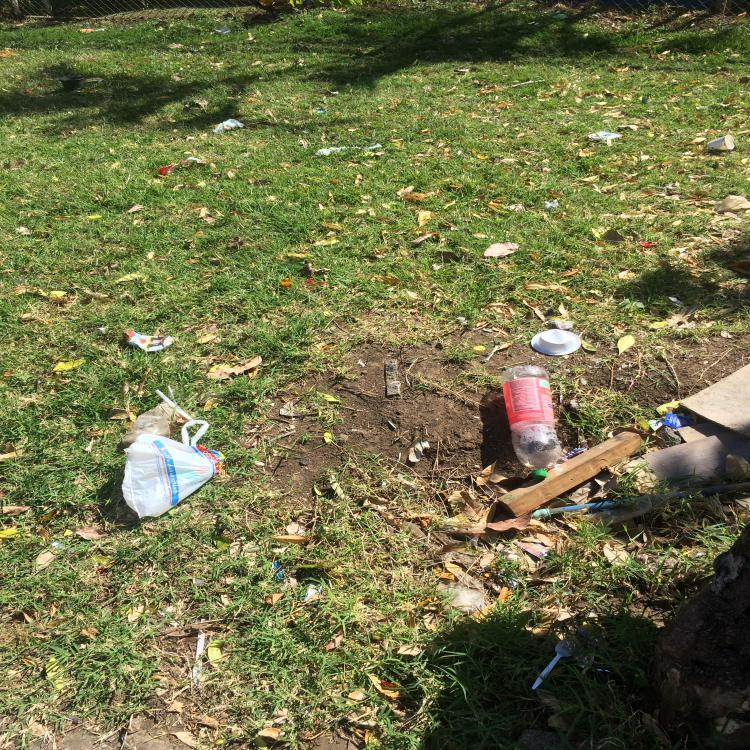Clear plastic bottle: (500, 365, 562, 479)
Other carton: (664, 413, 693, 428)
Other plastic: (548, 447, 588, 471), (512, 536, 552, 560)
Other plastic wrapper: (436, 579, 484, 613), (192, 618, 205, 688)
Paper cup: (707, 134, 735, 151)
Plastic bottle cap: (532, 471, 547, 478)
Plastic film: (122, 405, 171, 445), (716, 194, 749, 213)
Plastic straw: (154, 389, 193, 420)
Single-use carrier bag: (122, 420, 225, 518)
Unlabeled litter: (125, 330, 177, 352), (315, 144, 382, 155), (587, 131, 623, 140), (305, 581, 322, 600), (272, 560, 284, 583), (646, 419, 665, 431), (668, 297, 684, 305), (318, 111, 324, 113)
